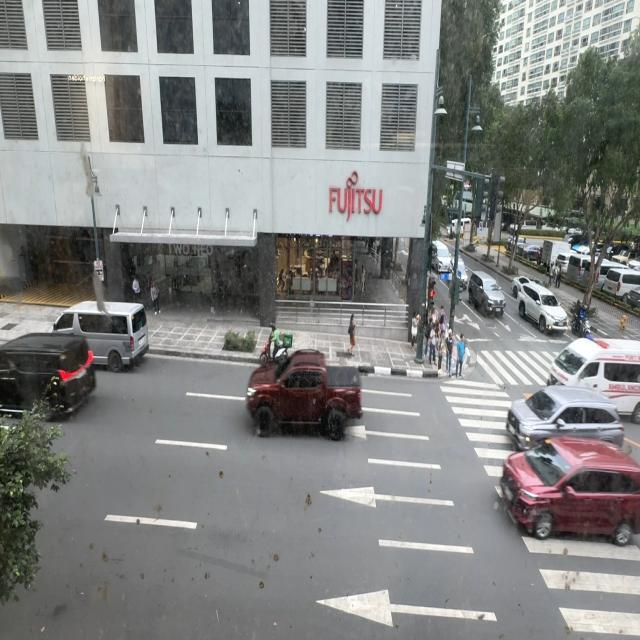waiting: (454, 331, 468, 387), (443, 328, 456, 387), (428, 303, 440, 357), (428, 323, 441, 369), (436, 326, 447, 374), (456, 334, 466, 378), (437, 304, 445, 354), (437, 331, 446, 372), (446, 330, 454, 374), (430, 330, 438, 366), (424, 327, 432, 363), (438, 306, 447, 334), (431, 306, 438, 332)
